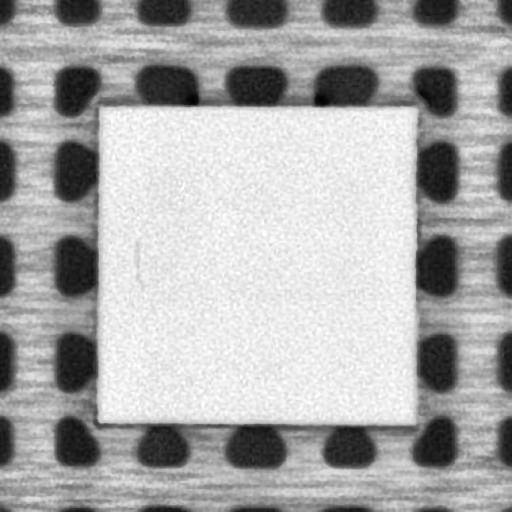DIE_CRACK: (128, 235, 148, 293)
